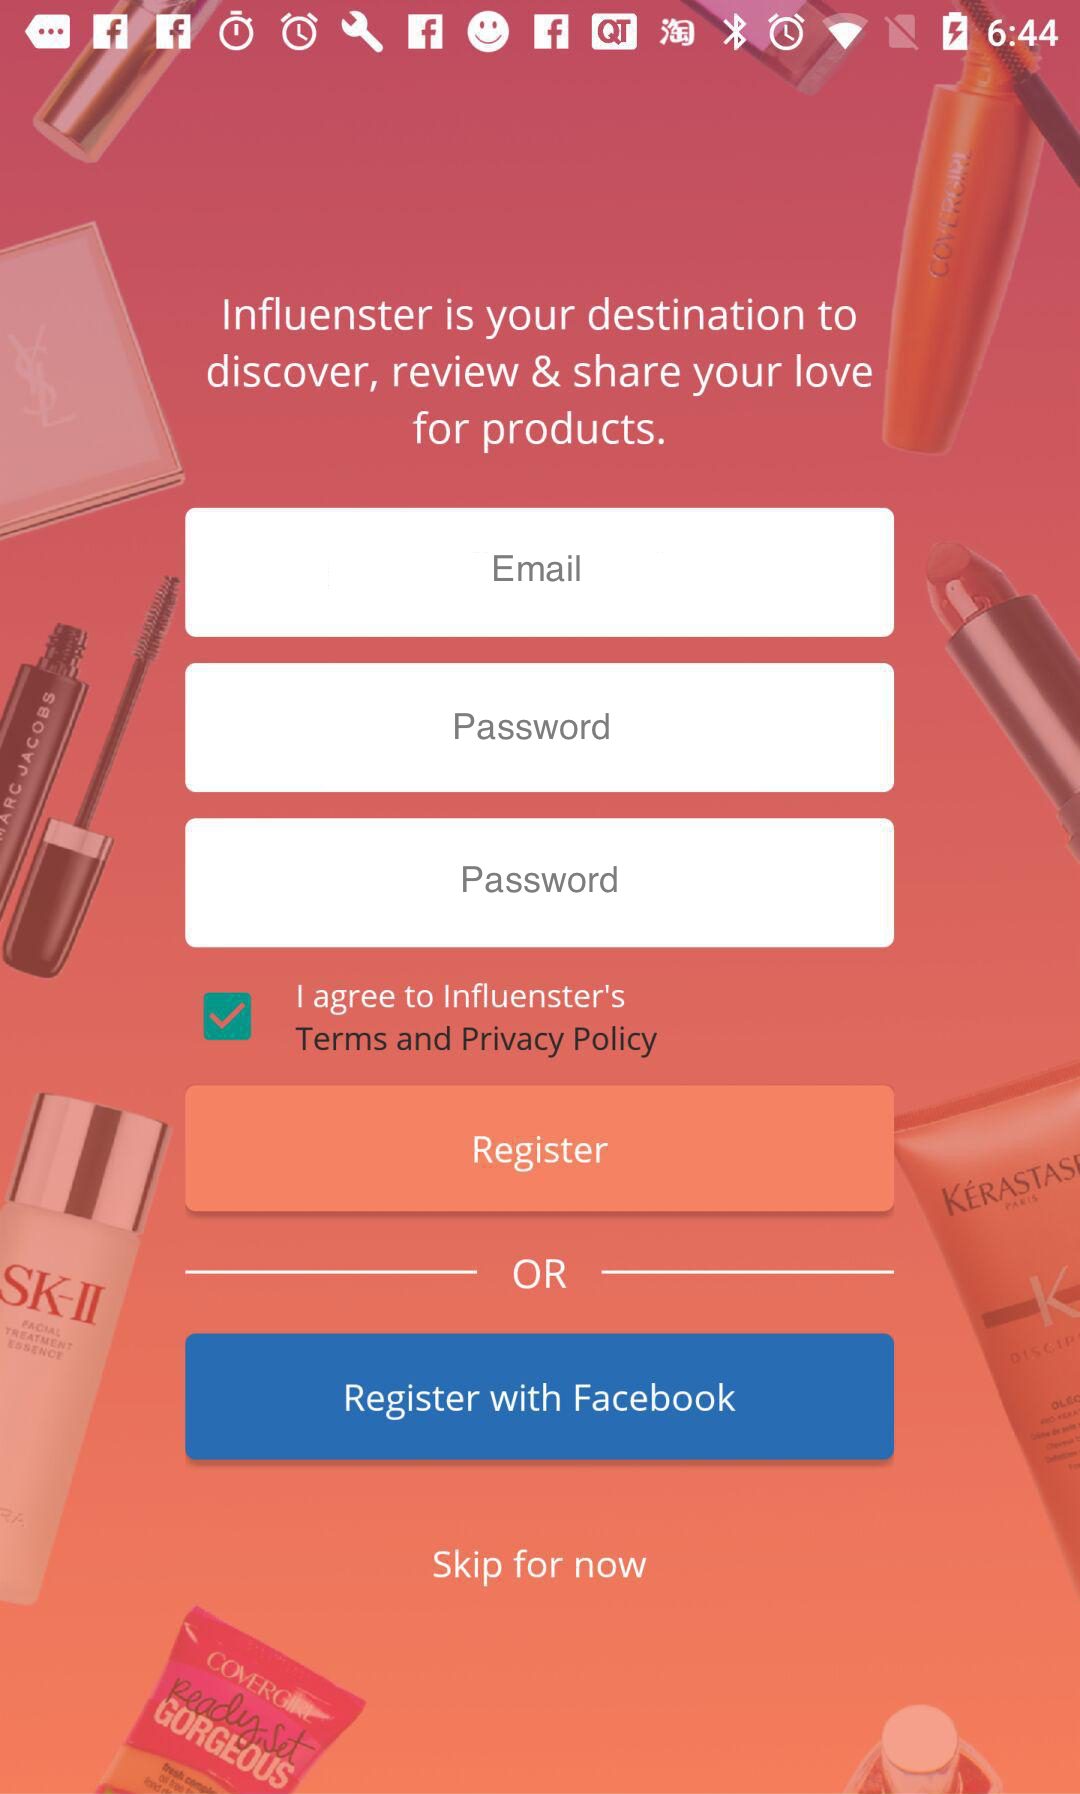BackgroundImage: (1, 54, 1080, 1794)
CheckedTextView: (204, 984, 659, 1060)
EditText: (184, 662, 896, 793), (184, 818, 896, 948), (186, 507, 896, 638)
Text: (208, 296, 872, 456), (295, 984, 659, 1058), (433, 1547, 648, 1588), (455, 712, 610, 741), (462, 866, 618, 894), (495, 555, 582, 584), (512, 1258, 568, 1290)
TextButton: (184, 1084, 896, 1214), (186, 1333, 896, 1461)
UpperTaskBar: (1, 1, 1080, 54)
